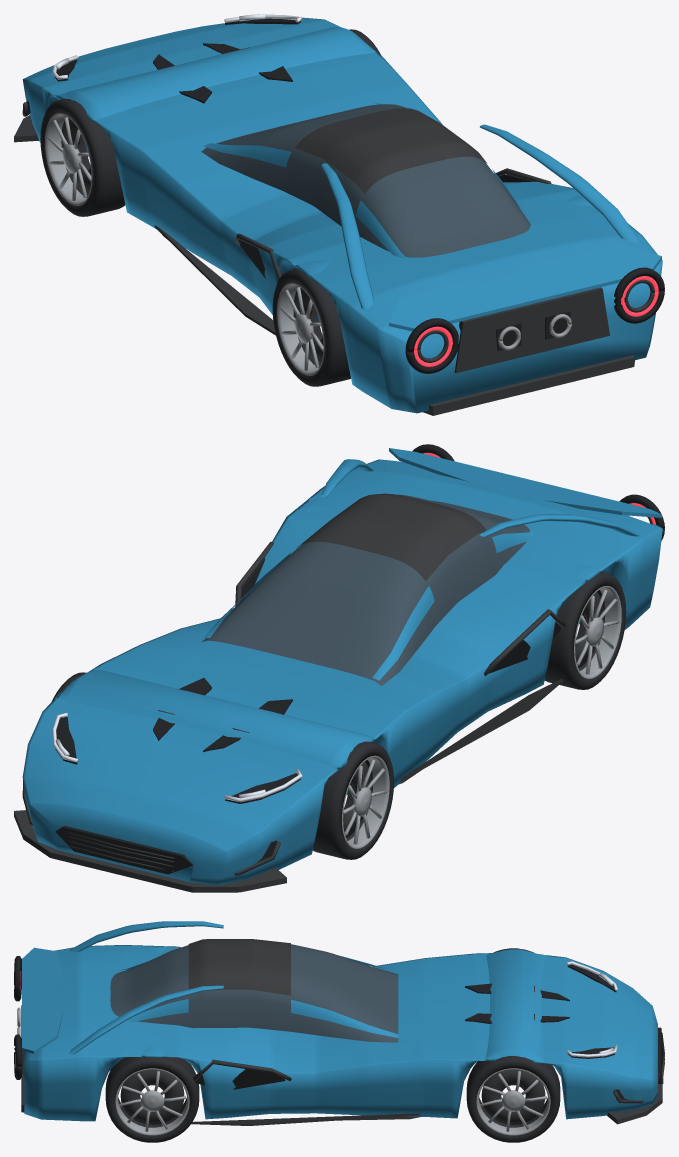
Rendered from FordGT.fbx.
The picture shows the model from 3 angles, top to bottom: view 1: azimuth 30°, elevation 25°; view 2: azimuth 150°, elevation 25°; view 3: azimuth 270°, elevation 25°; orthographic projection. The views are drawn at different scales.
Visible parts, largest first — view 1: Body, Glass, Rear active wing (stowed), Carbon roof, Tail panel, Tire fl, Tire rl, Rear aero diffuser, Paint flying buttress R, Paint flying buttress L, Side skirt L, rim_rl (+5 smaller); view 2: Body, Glass, Carbon roof, Rear active wing (stowed), Tire fl, Tire rl, Front carbon splitter, Center radiator grille, Side skirt L, rim_rl, rim_fl, Paint flying buttress L (+3 smaller); view 3: Body, Glass, Carbon roof, Rear active wing (stowed), Tire rr, Tire fr, Rotor rr, Rotor fr, Side skirt R, Paint flying buttress R, Paint flying buttress L, Paint front frame R (+12 smaller).
Part boxes in pixels (x1,y1,x2,y2): Body: [22, 17, 662, 413]; Glass: [201, 104, 530, 257]; Rear active wing (stowed): [389, 244, 661, 331]; Carbon roof: [295, 108, 487, 193]; Tail panel: [454, 287, 609, 373]; Tire fl: [40, 99, 125, 216]; Tire rl: [272, 268, 350, 386]; Rear aero diffuser: [423, 355, 634, 415]; Paint flying buttress R: [480, 124, 640, 242]; Paint flying buttress L: [321, 163, 373, 309]; Side skirt L: [154, 225, 275, 335]; rim_rl: [277, 282, 324, 375]; Body: [22, 459, 662, 885]; Glass: [202, 494, 529, 685]; Carbon roof: [296, 493, 486, 580]; Rear active wing (stowed): [389, 448, 661, 517]; Tire fl: [312, 741, 393, 859]; Tire rl: [544, 571, 626, 689]; Front carbon splitter: [14, 810, 286, 892]; Center radiator grille: [55, 825, 192, 874]; Side skirt L: [399, 679, 563, 784]; rim_rl: [574, 586, 621, 679]; rim_fl: [342, 755, 389, 848]; Paint flying buttress L: [479, 514, 640, 536]; Body: [24, 945, 657, 1121]; Glass: [110, 944, 398, 1042]; Carbon roof: [188, 939, 290, 995]; Rear active wing (stowed): [22, 947, 63, 1053]; Tire rr: [105, 1057, 199, 1142]; Tire fr: [466, 1056, 560, 1142]; Rotor rr: [120, 1069, 184, 1124]; Rotor fr: [481, 1069, 545, 1124]; Side skirt R: [191, 1113, 420, 1125]; Paint flying buttress R: [69, 985, 223, 1054]; Paint flying buttress L: [69, 921, 223, 951]; Paint front frame R: [291, 999, 398, 1037].
Bounding box in the file's own units: 2.02 × 1.12 × 4.89.
